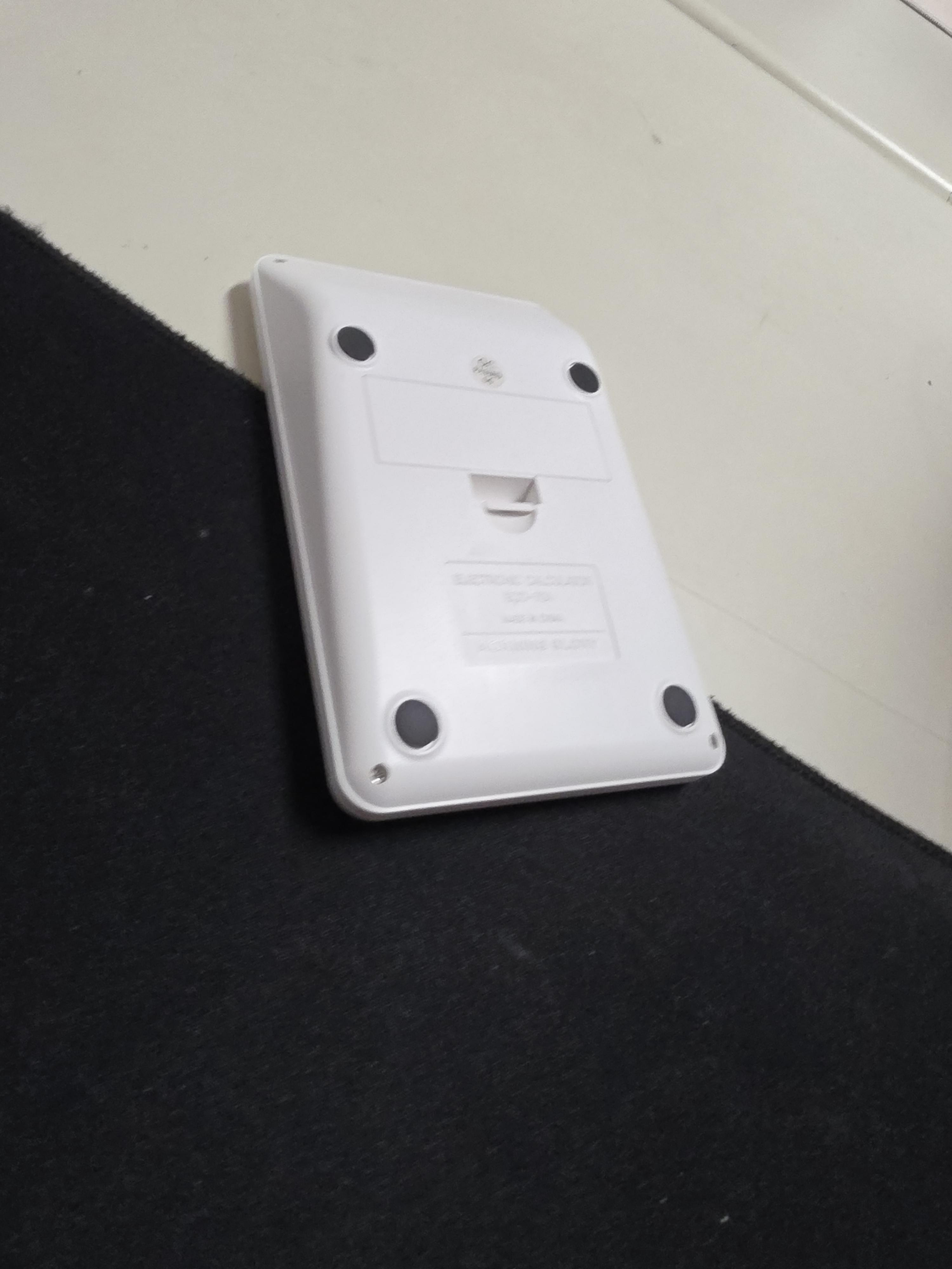calculator: (249, 253, 728, 822)
